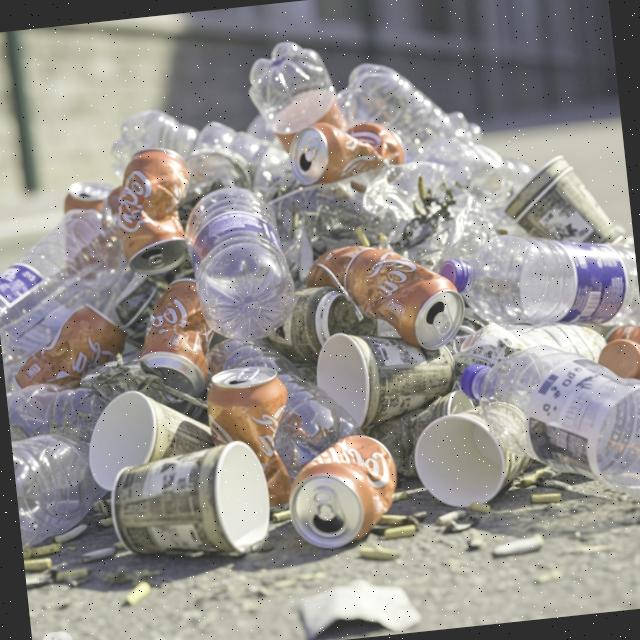aluminum: (277, 429, 407, 554), (340, 234, 463, 346), (104, 141, 200, 283), (8, 296, 140, 394), (198, 356, 291, 458), (284, 115, 408, 189)
paper: (311, 321, 457, 432), (408, 392, 538, 511), (499, 150, 614, 253)
plastic: (451, 340, 640, 496), (439, 226, 640, 337), (184, 180, 294, 334), (236, 35, 338, 152), (10, 423, 97, 553)
